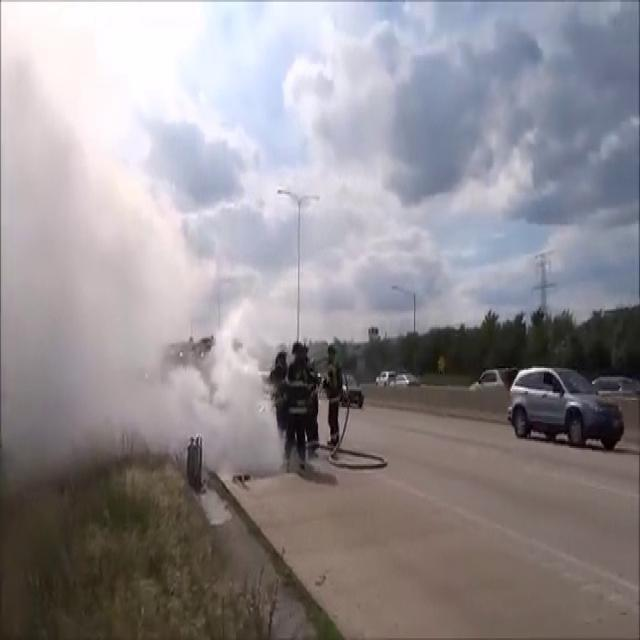Smoke: (1, 36, 278, 483)
